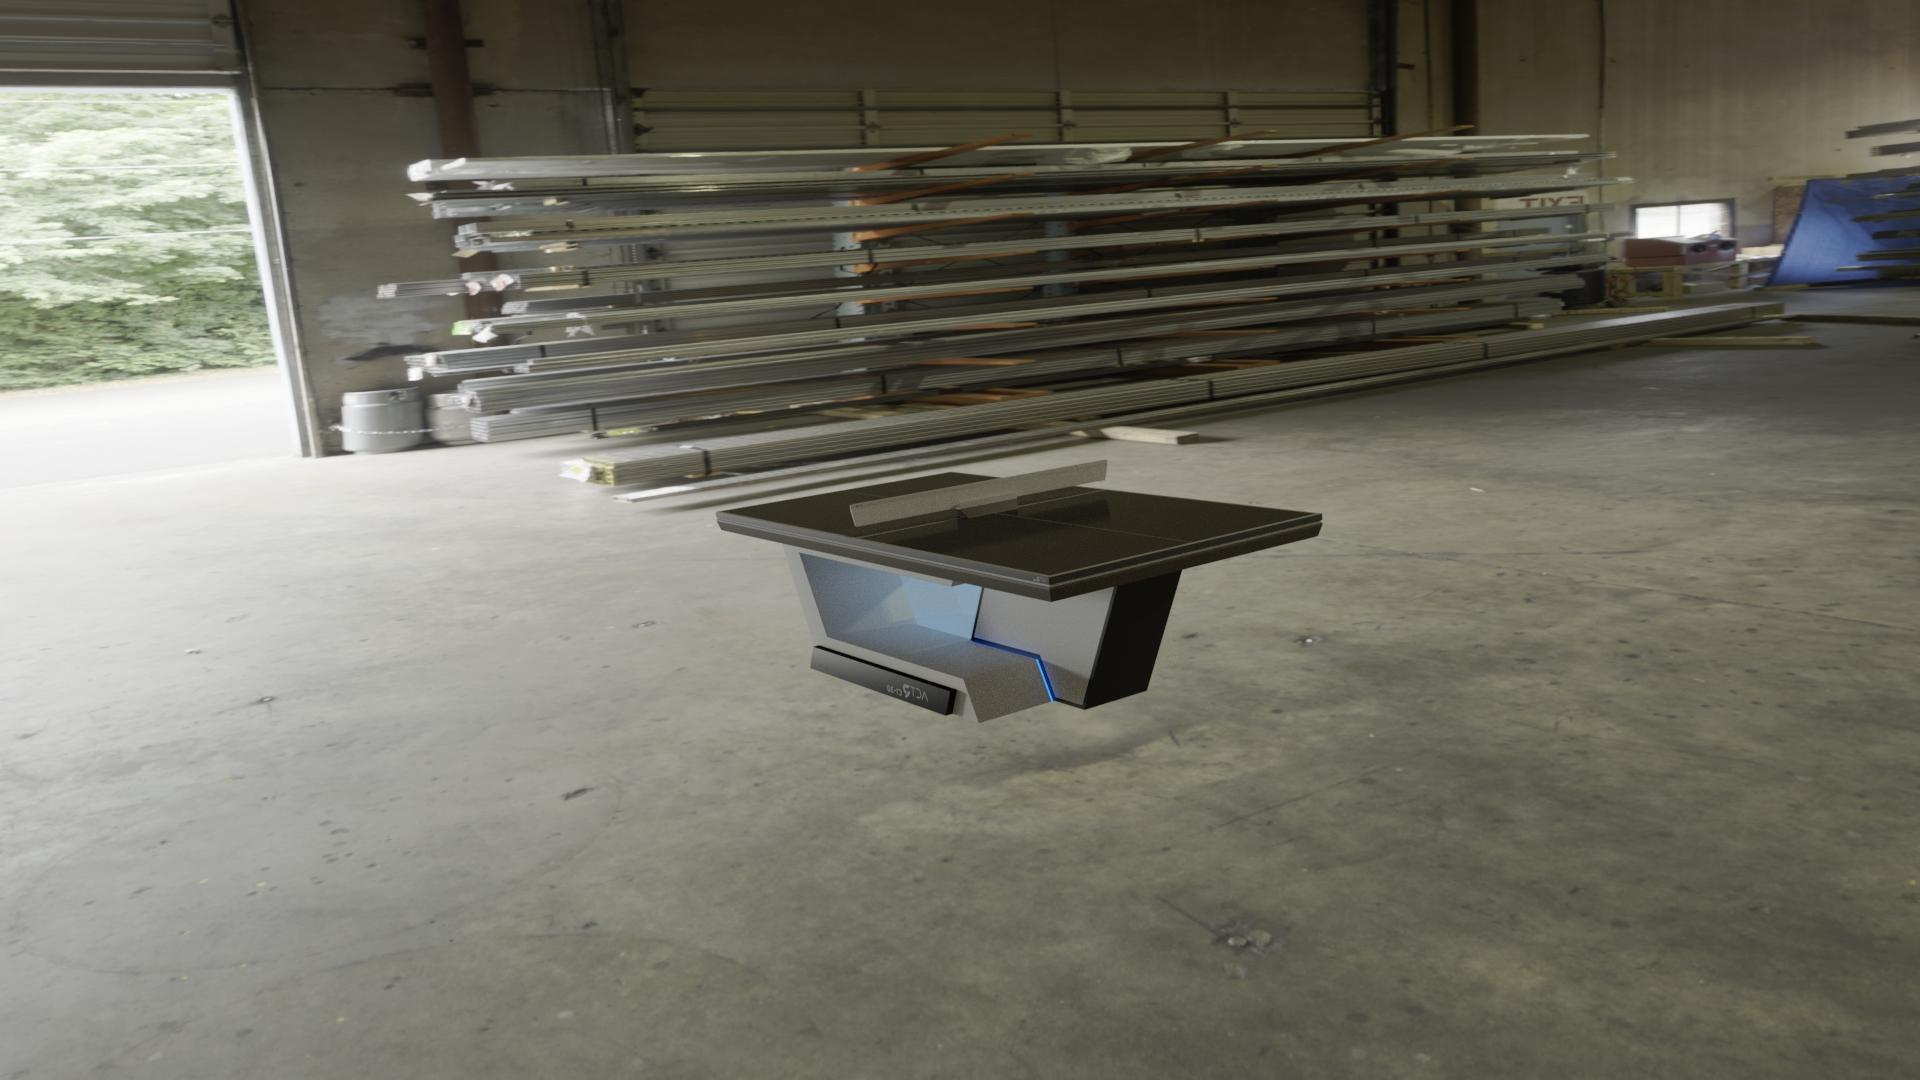table: (720, 472, 1316, 575)
